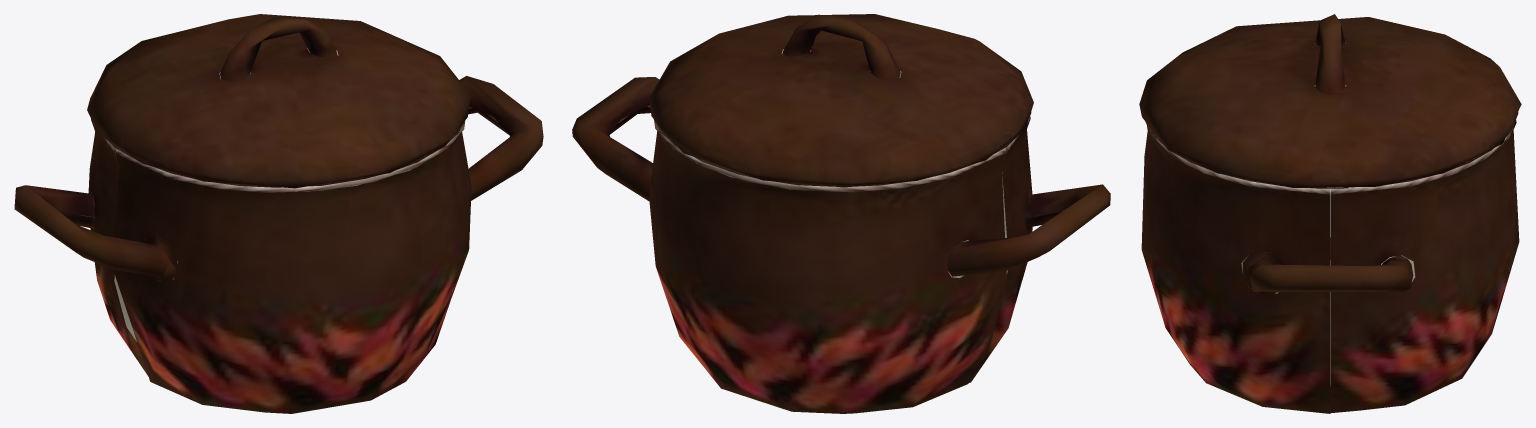
The model's file is pot_enamel.glb.
3 views of the same model, side by side, from view 1: azimuth 30°, elevation 25°; view 2: azimuth 150°, elevation 25°; view 3: azimuth 270°, elevation 25° (orthographic).
Visible parts, largest first — view 1: pot_enamel_01_base, pot_enamel_01_lid; view 2: pot_enamel_01_base, pot_enamel_01_lid; view 3: pot_enamel_01_base, pot_enamel_01_lid.
Part boxes in pixels (<box>): pot_enamel_01_base: <box>14,76,543,413</box>; pot_enamel_01_lid: <box>87,14,470,188</box>; pot_enamel_01_base: <box>572,77,1110,413</box>; pot_enamel_01_lid: <box>649,14,1033,187</box>; pot_enamel_01_base: <box>1141,120,1519,413</box>; pot_enamel_01_lid: <box>1139,14,1521,188</box>.
Size of the model in its own units: 0.2631 by 0.1776 by 0.1823.
Materials: 1 (1 with a texture image).
